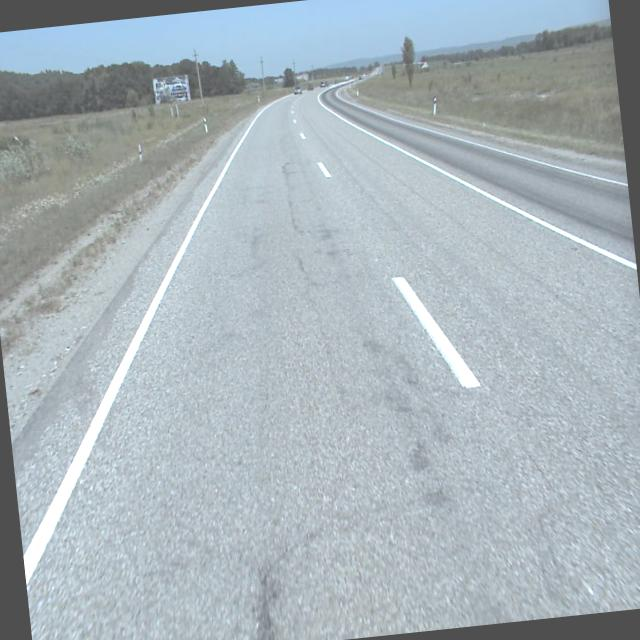road: (12, 86, 640, 640)
